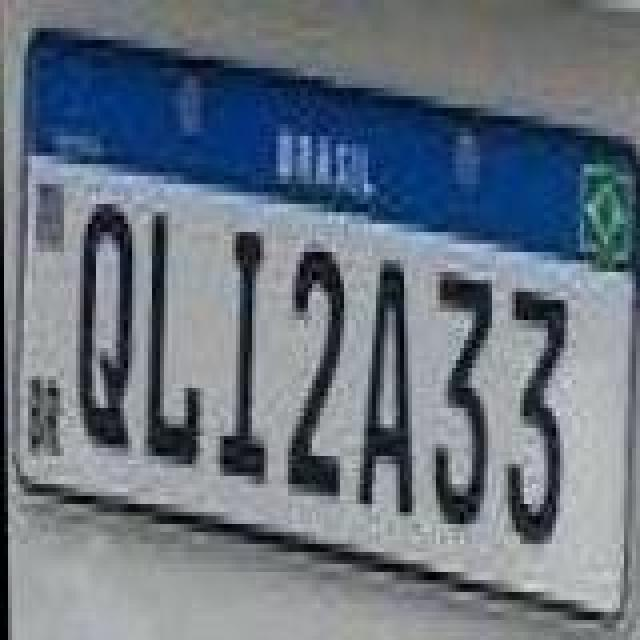2: (282, 244, 350, 508)
3: (426, 268, 494, 532), (502, 284, 570, 548)
A: (348, 256, 412, 520)
I: (208, 224, 264, 496)
L: (140, 208, 204, 472)
Q: (74, 198, 142, 450)
